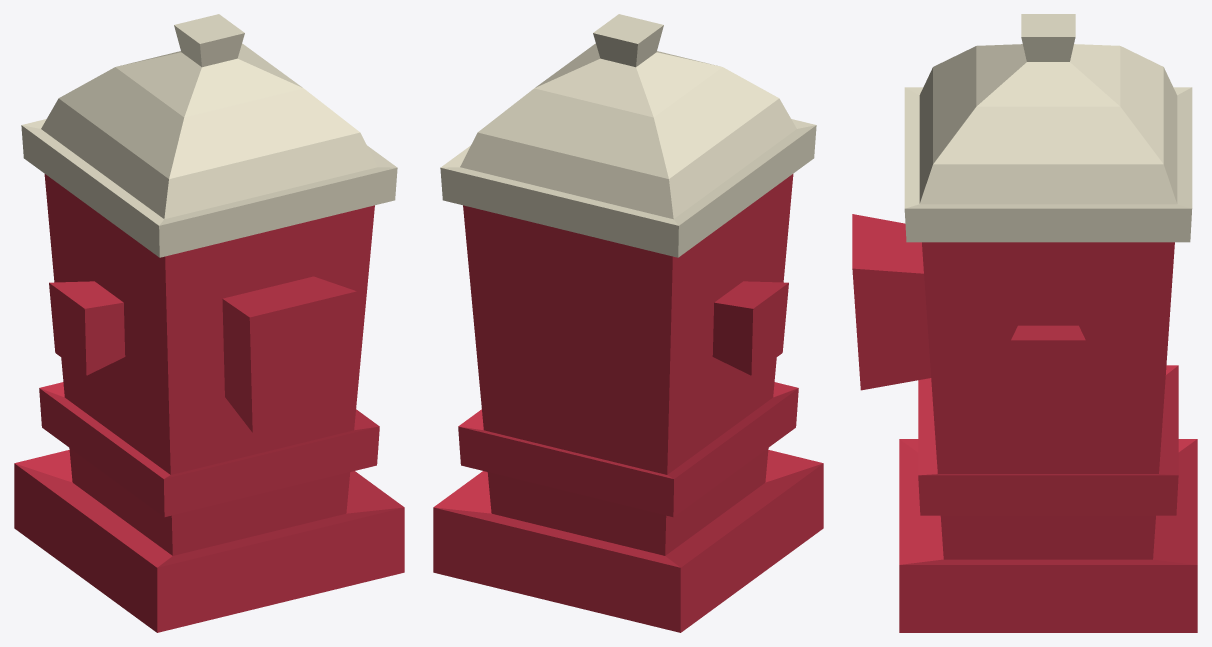
The model's file is fireHydrant.fbx.
3 renders of one model, left to right at view 1: azimuth 30°, elevation 25°; view 2: azimuth 150°, elevation 25°; view 3: azimuth 270°, elevation 25°, orthographic. The views are drawn at different scales.
Visible parts, largest first — view 1: fireHydrant; view 2: fireHydrant; view 3: fireHydrant.
Boxes of the visible parts, x1=… form: fireHydrant: x1=14, y1=14, x2=404, y2=632; fireHydrant: x1=433, y1=14, x2=823, y2=632; fireHydrant: x1=852, y1=14, x2=1197, y2=632.
Size of the model in its own units: 49.83 by 87.03 by 50.01.
